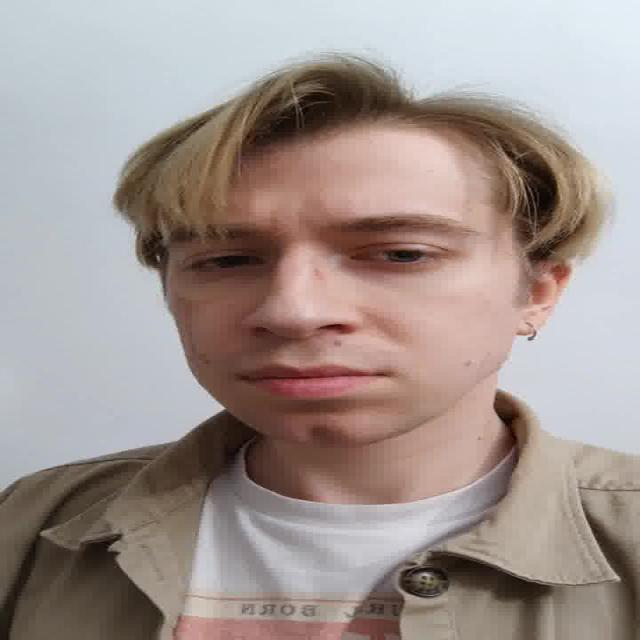earlobe: (513, 256, 575, 336)
